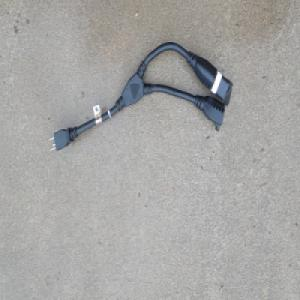Wire: (48, 40, 233, 154)
